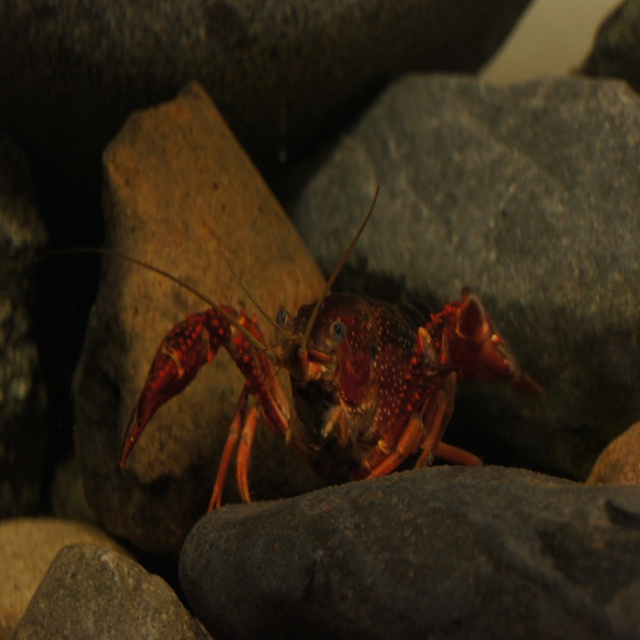Crab: (41, 184, 541, 513)
